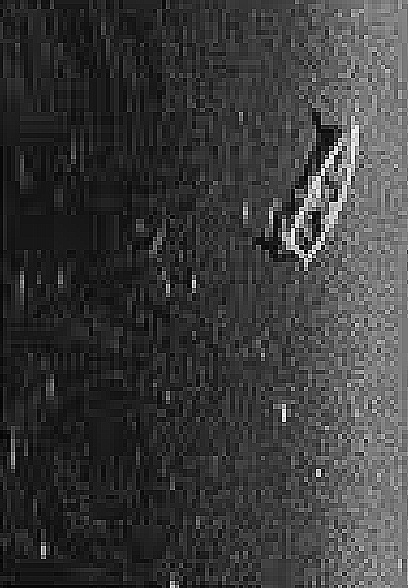ship: (277, 114, 361, 269)
